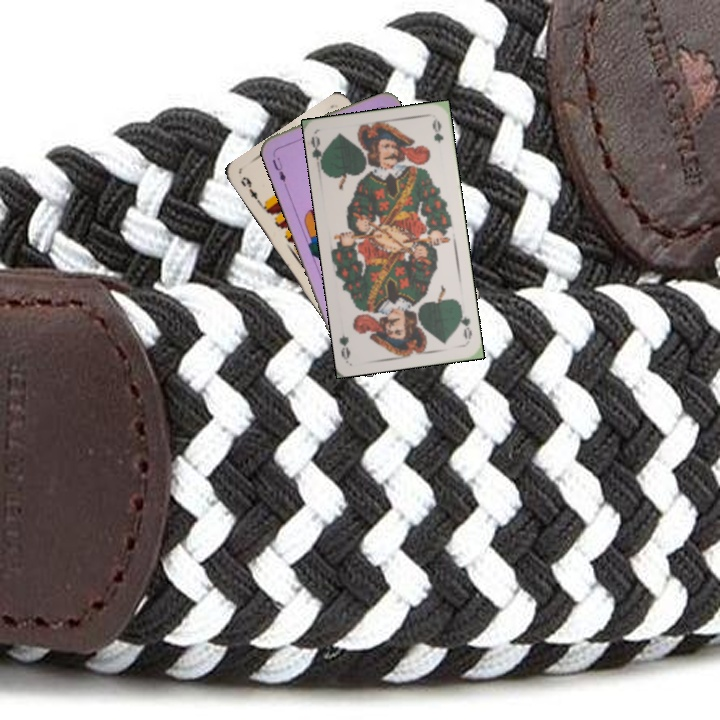E9: (237, 173, 264, 207)
EU: (268, 148, 289, 187)
GO: (307, 133, 329, 174), (455, 304, 475, 342)
